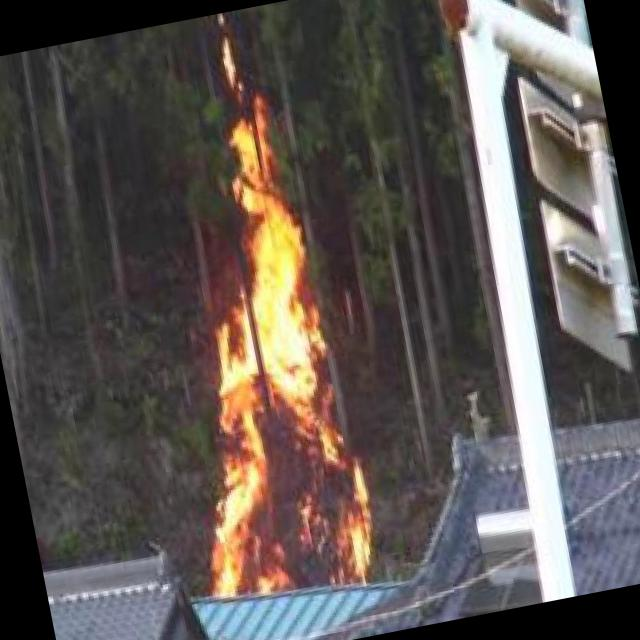Fire: (128, 110, 383, 608)
